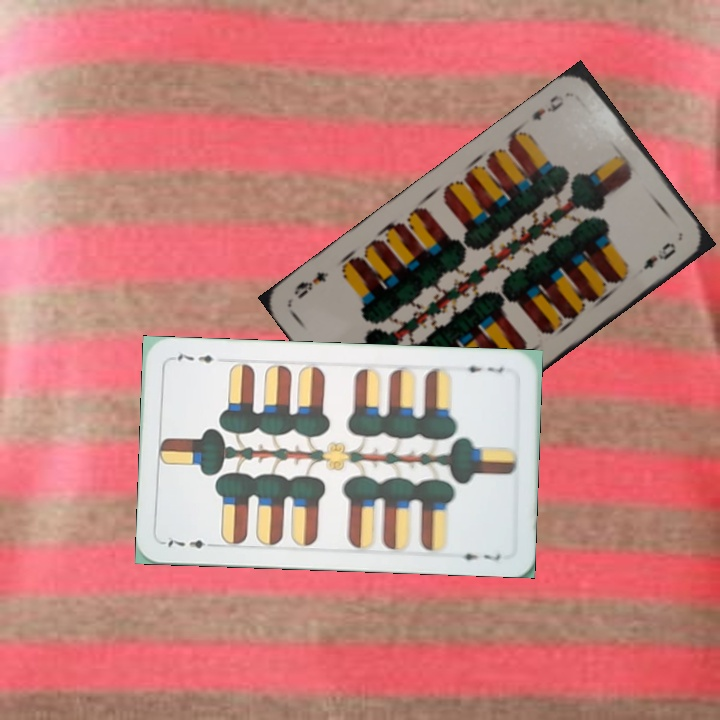E7: (160, 535, 219, 552), (457, 361, 507, 376)
E9: (527, 90, 567, 124)
